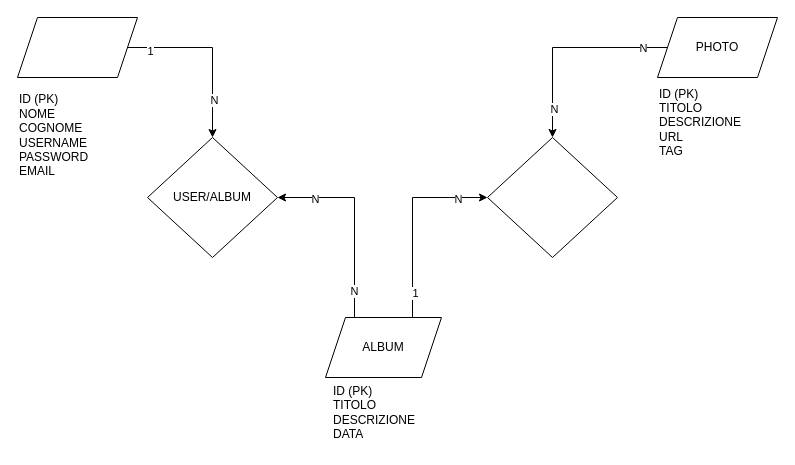
This 795x465 diagram has some shape labels left out. The shapes that lost their labels are listed below. From the top down, each one's centre as x and y in pixels, then its label:
(x=77, y=47): USER
(x=552, y=197): ALBUM/PHOTO
